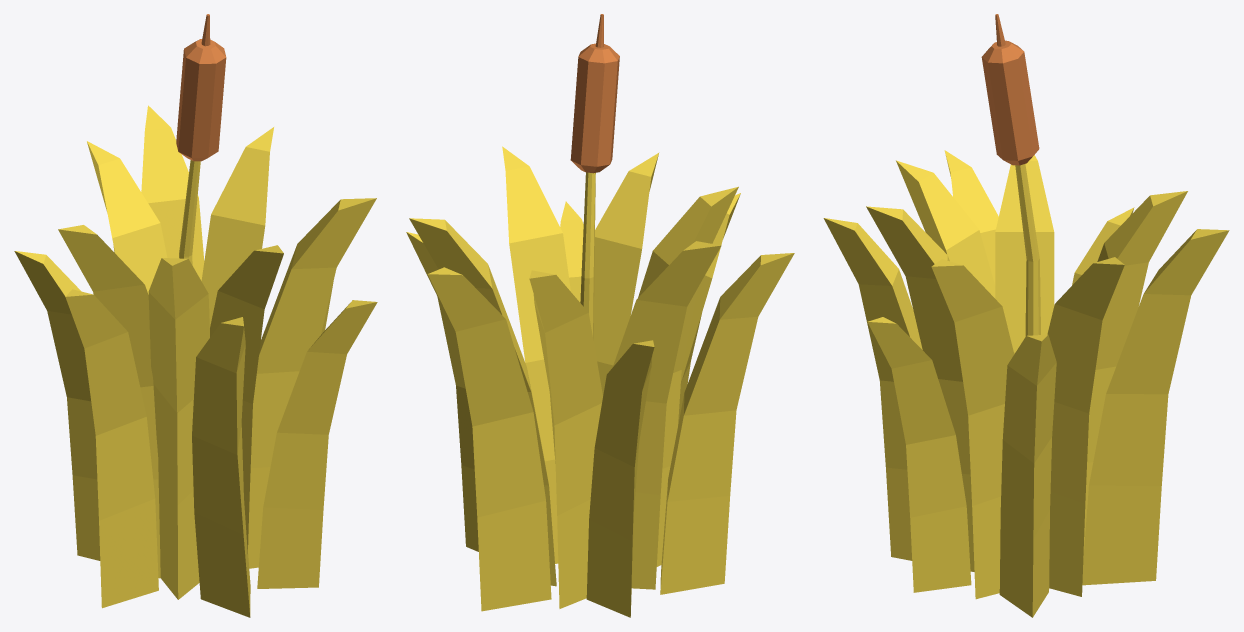
The model's file is reeds_01.fbx.
3 views of the same model, side by side, from view 1: azimuth 30°, elevation 25°; view 2: azimuth 150°, elevation 25°; view 3: azimuth 270°, elevation 25° (orthographic). The views are drawn at different scales.
Visible parts, largest first — view 1: reeds_01; view 2: reeds_01; view 3: reeds_01.
Boxes of the visible parts, x1,y1,x2,y2 form: reeds_01: (14, 14, 377, 617); reeds_01: (406, 14, 794, 617); reeds_01: (823, 14, 1229, 617).
Bounding box in the file's own units: 143 × 222 × 149.
